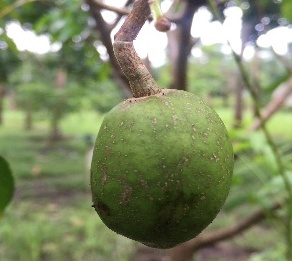Coc: (92, 89, 232, 247)
